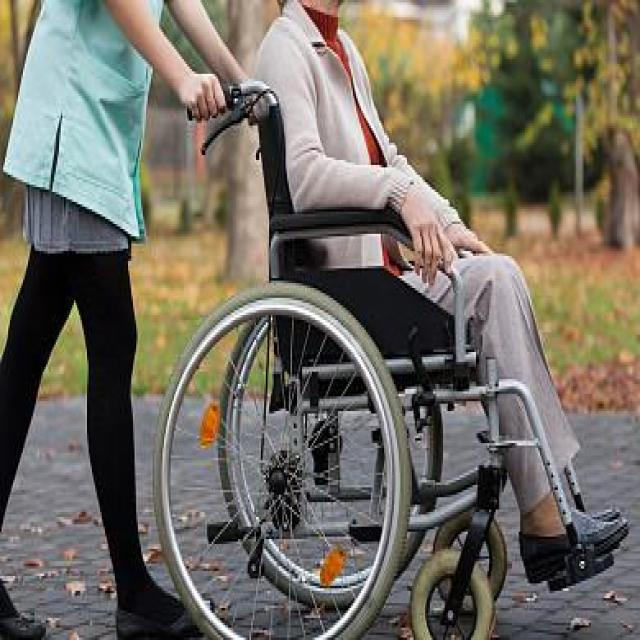wheelchairs: (151, 54, 637, 640)
